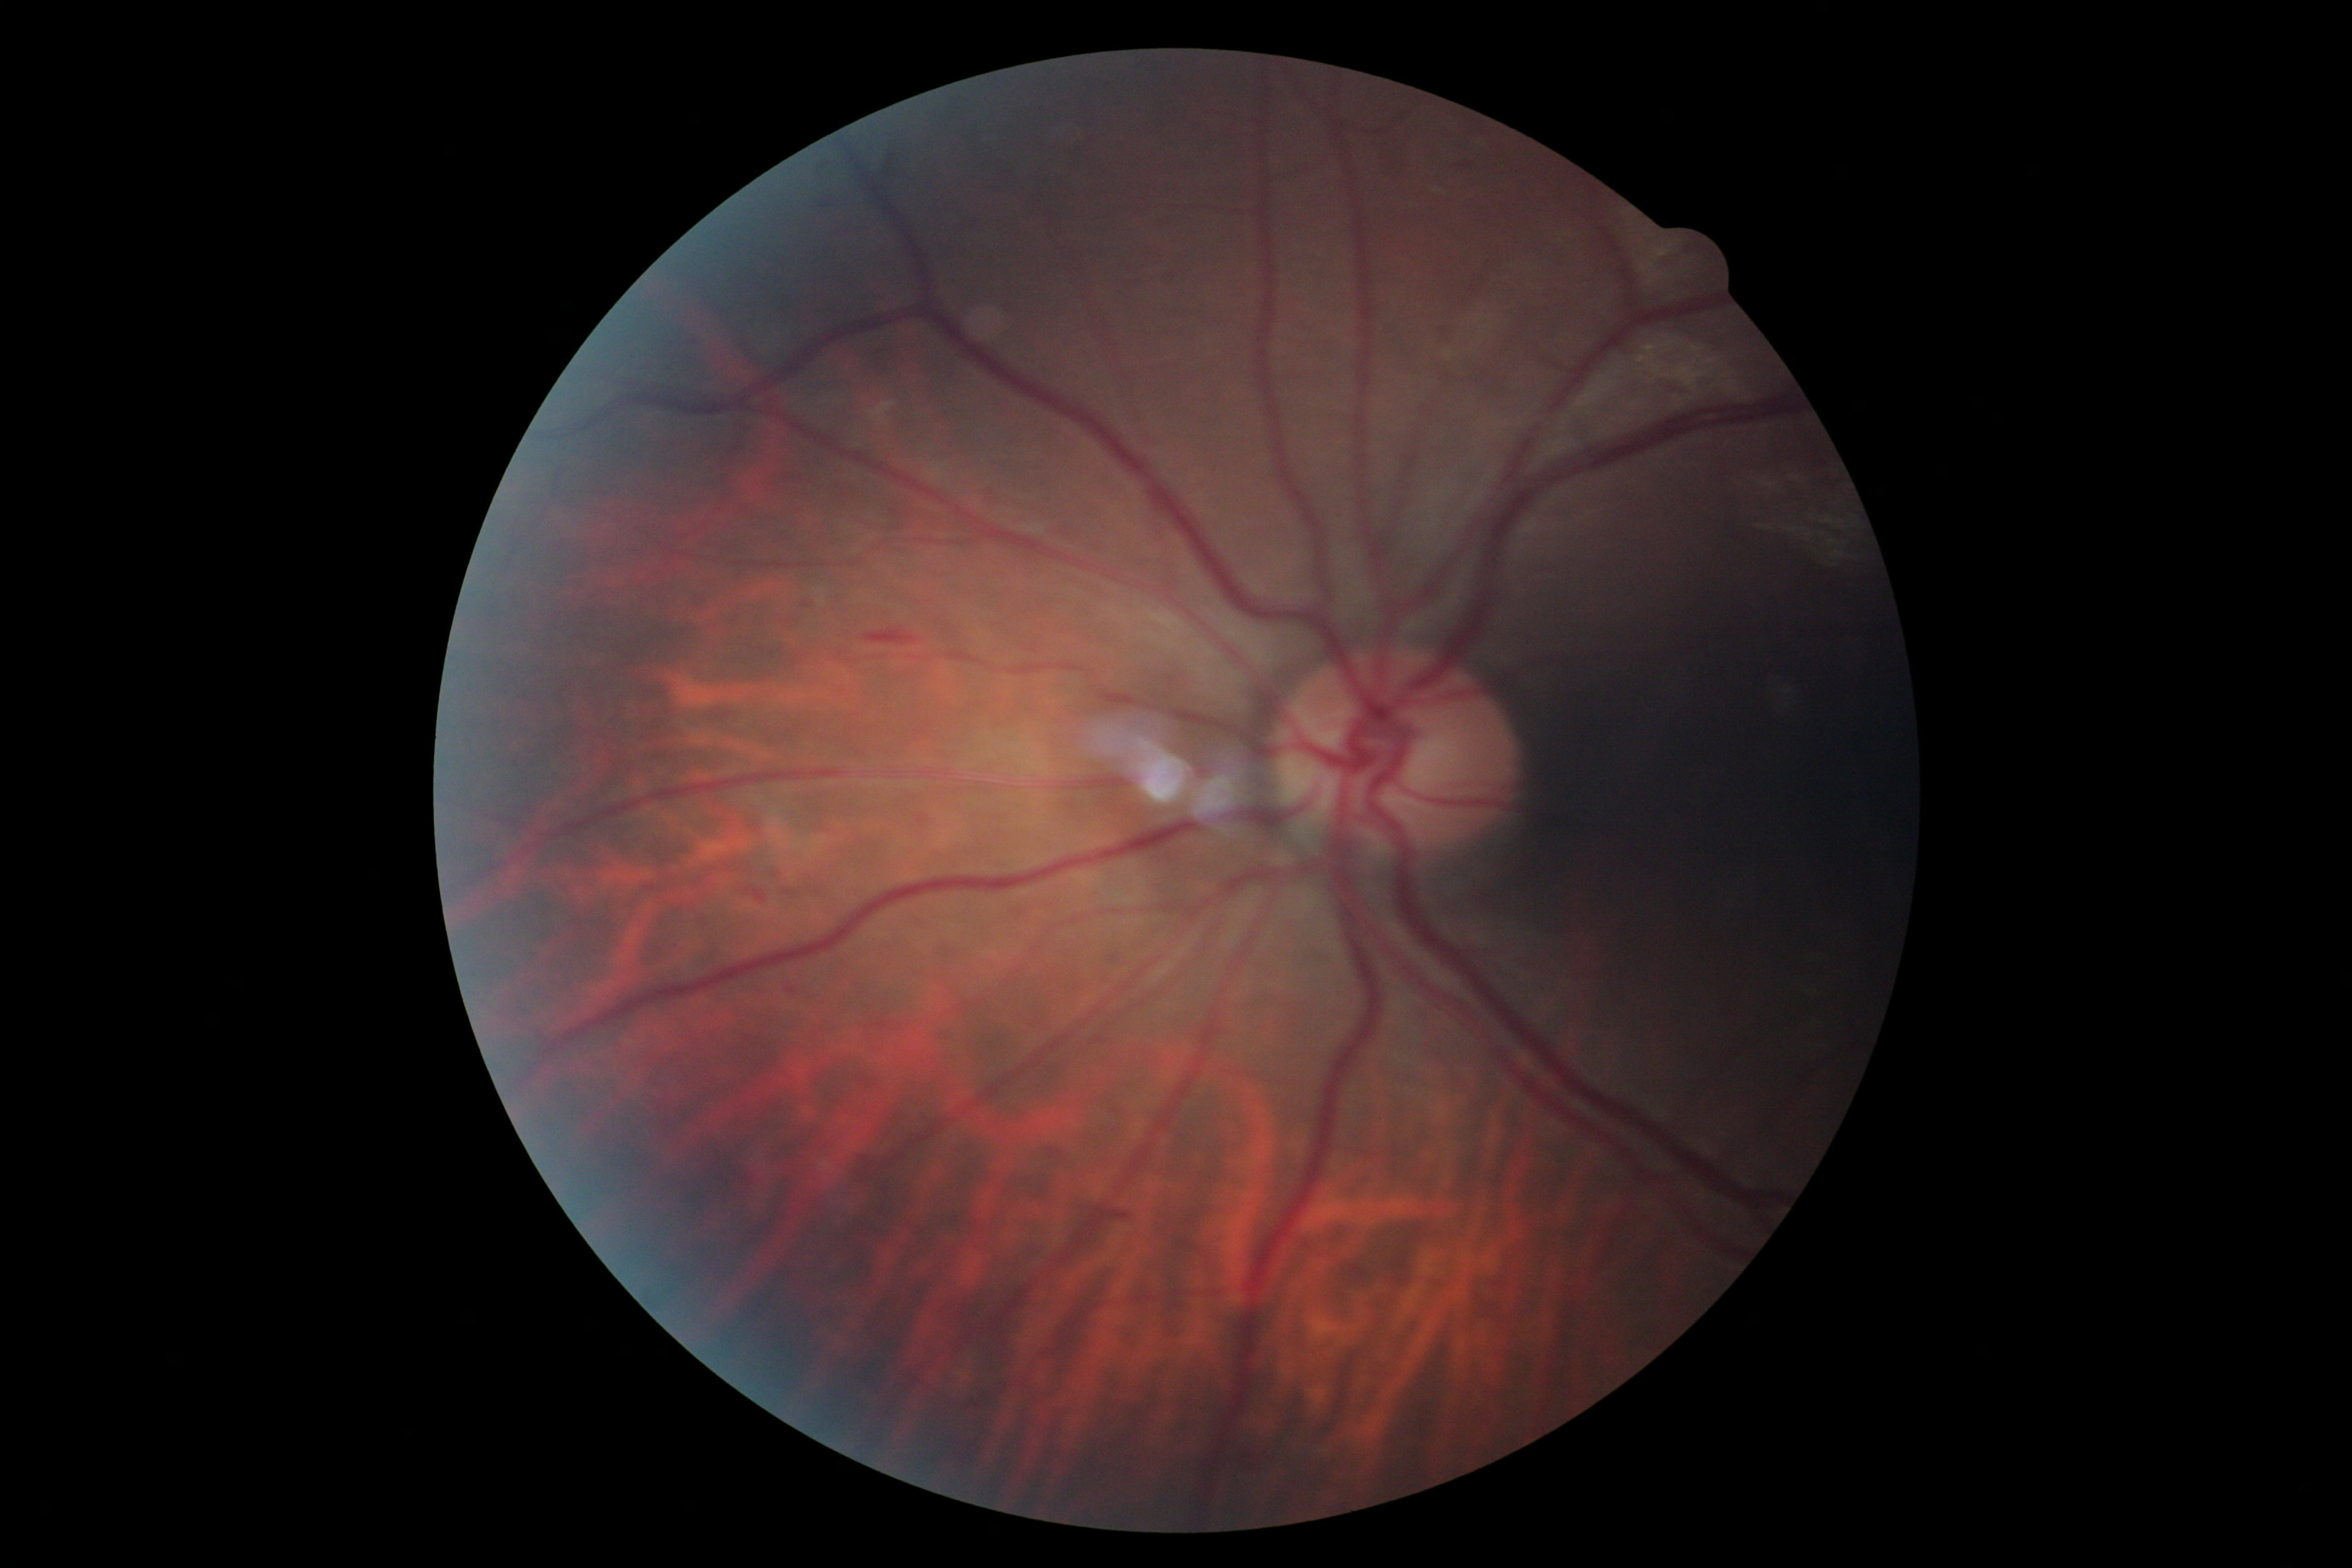OD: (1248, 635, 1545, 894)
